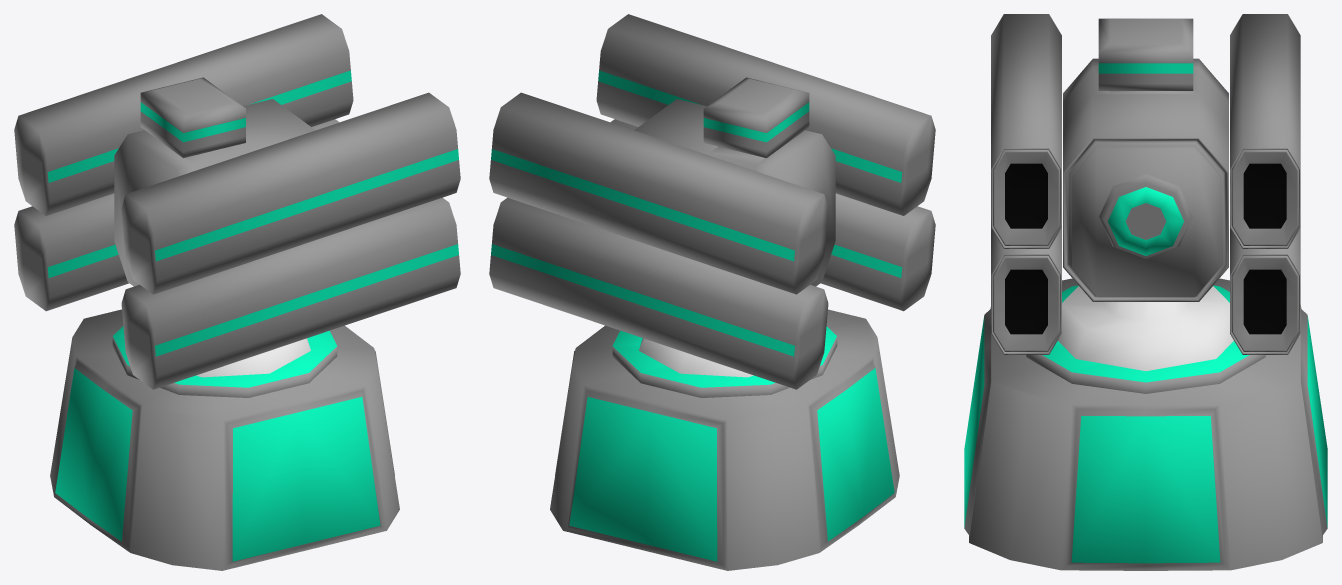
Rendered from Lowpoly Turret.fbx.
3 renders of one model, left to right at view 1: azimuth 30°, elevation 25°; view 2: azimuth 150°, elevation 25°; view 3: azimuth 270°, elevation 25°, orthographic. The views are drawn at different scales.
Visible parts, largest first — view 1: Box001, Box003, Box004, Box005, Box002, Box006, Cylinder004, Cylinder005; view 2: Box001, Box005, Box006, Box003, Box002, Box004, Cylinder004, Cylinder005; view 3: Box001, Box002, Box003, Box005, Cylinder005, Box004, Box006, Cylinder004, Cylinder006.
Boxes of the visible parts, x1=… form: Box001: x1=50, y1=309, x2=399, y2=570; Box003: x1=121, y1=92, x2=460, y2=294; Box004: x1=121, y1=197, x2=460, y2=389; Box005: x1=14, y1=14, x2=353, y2=215; Box002: x1=114, y1=77, x2=315, y2=286; Box006: x1=14, y1=119, x2=339, y2=311; Cylinder004: x1=112, y1=326, x2=337, y2=397; Cylinder005: x1=196, y1=338, x2=310, y2=377; Box001: x1=550, y1=309, x2=899, y2=570; Box005: x1=489, y1=92, x2=828, y2=294; Box006: x1=489, y1=197, x2=828, y2=389; Box003: x1=596, y1=14, x2=935, y2=215; Box002: x1=634, y1=77, x2=835, y2=286; Box004: x1=610, y1=119, x2=935, y2=311; Cylinder004: x1=612, y1=326, x2=837, y2=397; Cylinder005: x1=639, y1=338, x2=753, y2=377; Box001: x1=964, y1=278, x2=1327, y2=570; Box002: x1=1063, y1=18, x2=1228, y2=301; Box003: x1=991, y1=14, x2=1061, y2=248; Box005: x1=1230, y1=14, x2=1300, y2=248; Cylinder005: x1=1058, y1=286, x2=1233, y2=371; Box004: x1=991, y1=228, x2=1061, y2=354; Box006: x1=1230, y1=228, x2=1300, y2=354; Cylinder004: x1=1026, y1=285, x2=1265, y2=393; Cylinder006: x1=1099, y1=174, x2=1192, y2=258.
Size of the model in its own units: 27.71 by 34.45 by 25.2.
